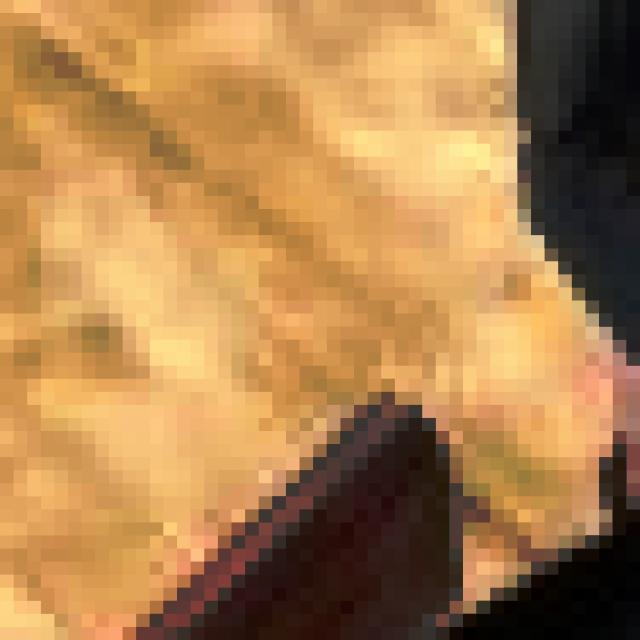arms: (0, 326, 517, 640)
